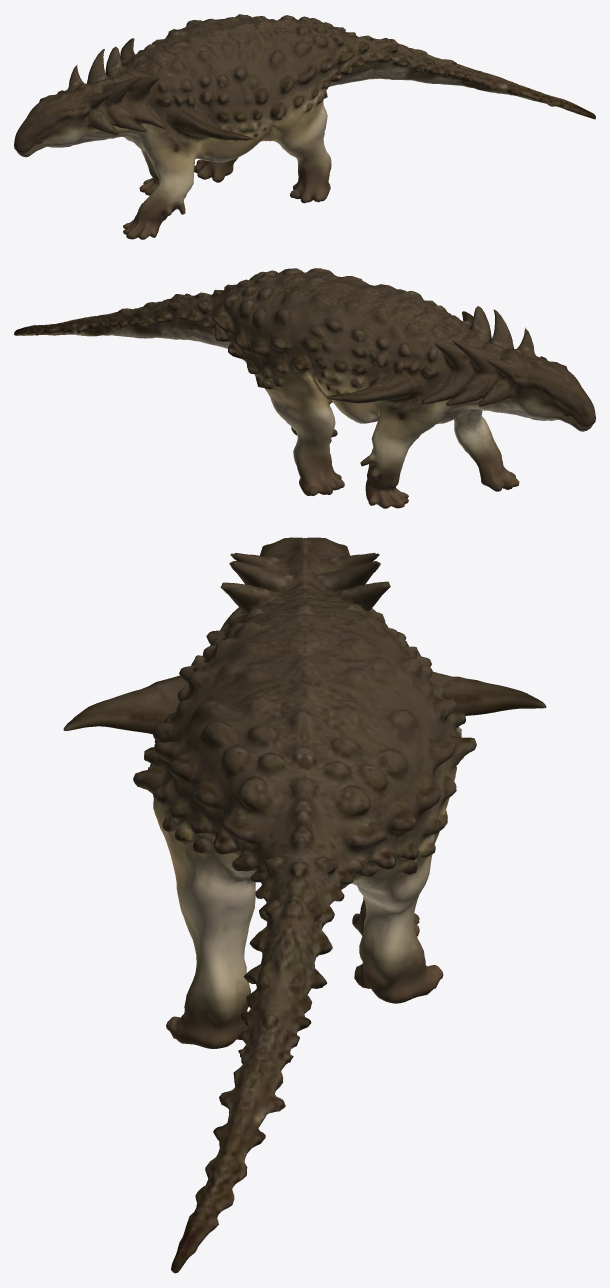
Rendered from nature-sauropelta.glb.
The picture shows the model from 3 angles, top to bottom: view 1: azimuth 30°, elevation 25°; view 2: azimuth 150°, elevation 25°; view 3: azimuth 270°, elevation 25°; orthographic projection. The views are drawn at different scales.
Parts seen in each view (by area): view 1: Animal; view 2: Animal; view 3: Animal.
Part boxes in pixels (x1,y1,x2,y2): Animal: (14, 14, 595, 239); Animal: (14, 268, 595, 508); Animal: (63, 537, 546, 1273).
Bounding box in the file's own units: 3.2 × 0.9329 × 1.22.
Materials: 1 (1 with a texture image).
